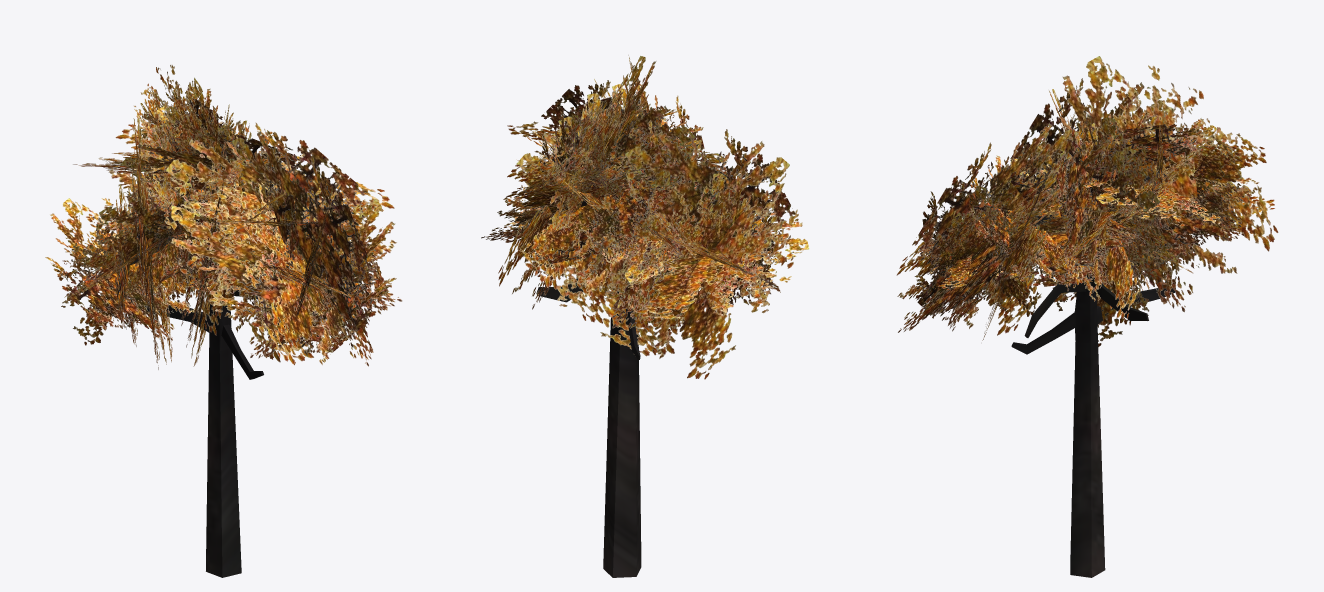
File: Tree4.fbx
3 views of the same model, side by side, from view 1: azimuth 30°, elevation 25°; view 2: azimuth 150°, elevation 25°; view 3: azimuth 270°, elevation 25° (orthographic). The views are drawn at different scales.
Visible parts, largest first — view 1: Cylinder.004, Cylinder.004|Plane.008|Dupli|4, Cylinder.004|Plane.008|Dupli|10, Cylinder.004|Plane.008|Dupli|5, Cylinder.004|Plane.008|Dupli|9, Cylinder.004|Plane.008|Dupli|39, Cylinder.004|Plane.008|Dupli|12, Cylinder.004|Plane.008|Dupli|35, Cylinder.004|Plane.008|Dupli|33, Cylinder.004|Plane.008|Dupli|31, Cylinder.004|Plane.008|Dupli|14, Cylinder.004|Plane.008|Dupli| (+15 smaller); view 2: Cylinder.004|Plane.008|Dupli|35, Cylinder.004, Cylinder.004|Plane.008|Dupli|31, Cylinder.004|Plane.008|Dupli|36, Cylinder.004|Plane.008|Dupli|29, Cylinder.004|Plane.008|Dupli|23, Cylinder.004|Plane.008|Dupli|38, Cylinder.004|Plane.008|Dupli|26, Cylinder.004|Plane.008|Dupli|30, Cylinder.004|Plane.008|Dupli|2, Cylinder.004|Plane.008|Dupli|13, Cylinder.004|Plane.008|Dupli|14 (+11 smaller); view 3: Cylinder.004|Plane.008|Dupli|23, Cylinder.004, Cylinder.004|Plane.008|Dupli|4, Cylinder.004|Plane.008|Dupli|14, Cylinder.004|Plane.008|Dupli|9, Cylinder.004|Plane.008|Dupli|30, Cylinder.004|Plane.008|Dupli|2, Cylinder.004|Plane.008|Dupli|12, Cylinder.004|Plane.008|Dupli|6, Cylinder.004|Plane.008|Dupli|7, Cylinder.004|Plane.008|Dupli|26, Cylinder.004|Plane.008|Dupli|10 (+13 smaller).
Part boxes in pixels (x1,y1,x2,y2): Cylinder.004: (123,188,310,577); Cylinder.004|Plane.008|Dupli|4: (217,131,372,362); Cylinder.004|Plane.008|Dupli|10: (171,159,402,344); Cylinder.004|Plane.008|Dupli|5: (165,122,380,363); Cylinder.004|Plane.008|Dupli|9: (232,165,391,366); Cylinder.004|Plane.008|Dupli|39: (45,198,216,340); Cylinder.004|Plane.008|Dupli|12: (207,191,396,358); Cylinder.004|Plane.008|Dupli|35: (59,188,201,345); Cylinder.004|Plane.008|Dupli|33: (118,157,232,305); Cylinder.004|Plane.008|Dupli|31: (130,118,172,369); Cylinder.004|Plane.008|Dupli|14: (120,129,303,200); Cylinder.004|Plane.008|Dupli|: (200,120,300,335); Cylinder.004|Plane.008|Dupli|35: (612,141,798,379); Cylinder.004: (536,185,712,577); Cylinder.004|Plane.008|Dupli|31: (593,129,795,355); Cylinder.004|Plane.008|Dupli|36: (613,196,809,320); Cylinder.004|Plane.008|Dupli|29: (508,147,668,271); Cylinder.004|Plane.008|Dupli|23: (498,56,656,309); Cylinder.004|Plane.008|Dupli|38: (636,173,776,331); Cylinder.004|Plane.008|Dupli|26: (495,145,664,264); Cylinder.004|Plane.008|Dupli|30: (481,163,677,245); Cylinder.004|Plane.008|Dupli|2: (513,116,698,356); Cylinder.004|Plane.008|Dupli|13: (535,113,667,318); Cylinder.004|Plane.008|Dupli|14: (532,97,669,276); Cylinder.004|Plane.008|Dupli|23: (1038,56,1278,312); Cylinder.004: (1011,171,1175,577); Cylinder.004|Plane.008|Dupli|4: (912,123,1077,335); Cylinder.004|Plane.008|Dupli|14: (1052,103,1145,318); Cylinder.004|Plane.008|Dupli|9: (896,167,1060,332); Cylinder.004|Plane.008|Dupli|30: (1139,113,1266,263); Cylinder.004|Plane.008|Dupli|2: (1020,145,1169,346); Cylinder.004|Plane.008|Dupli|12: (914,191,1015,318); Cylinder.004|Plane.008|Dupli|6: (969,155,1085,285); Cylinder.004|Plane.008|Dupli|7: (987,164,1138,286); Cylinder.004|Plane.008|Dupli|26: (1150,122,1241,252); Cylinder.004|Plane.008|Dupli|10: (932,132,1071,331).
Bounding box in the file's own units: 5984 × 8382 × 6102.
